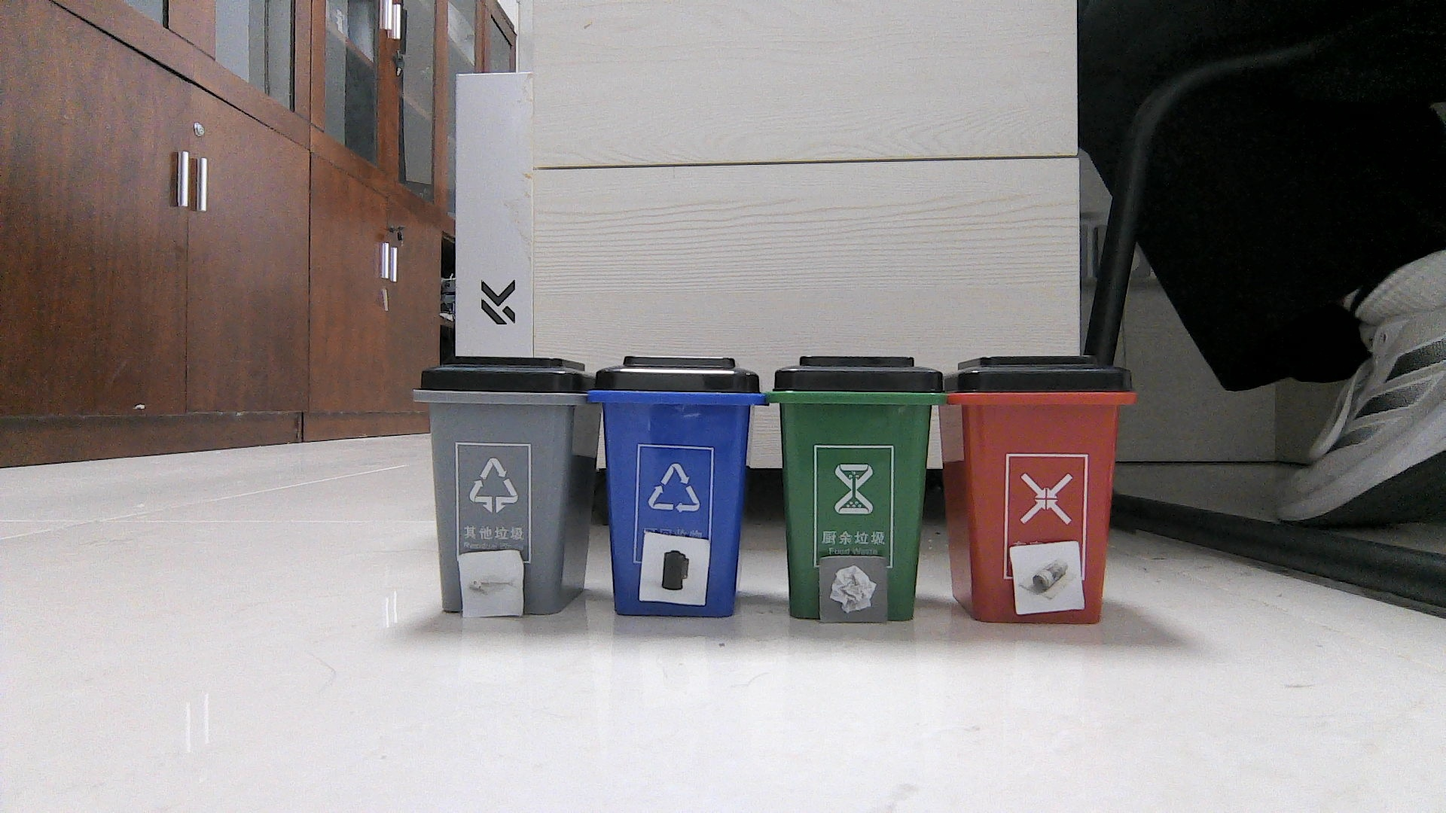food_trash: (458, 553, 520, 610)
hazardous_trash: (645, 535, 702, 601)
other_trash: (822, 558, 882, 620)
recyclable_trash: (1014, 547, 1080, 608)
